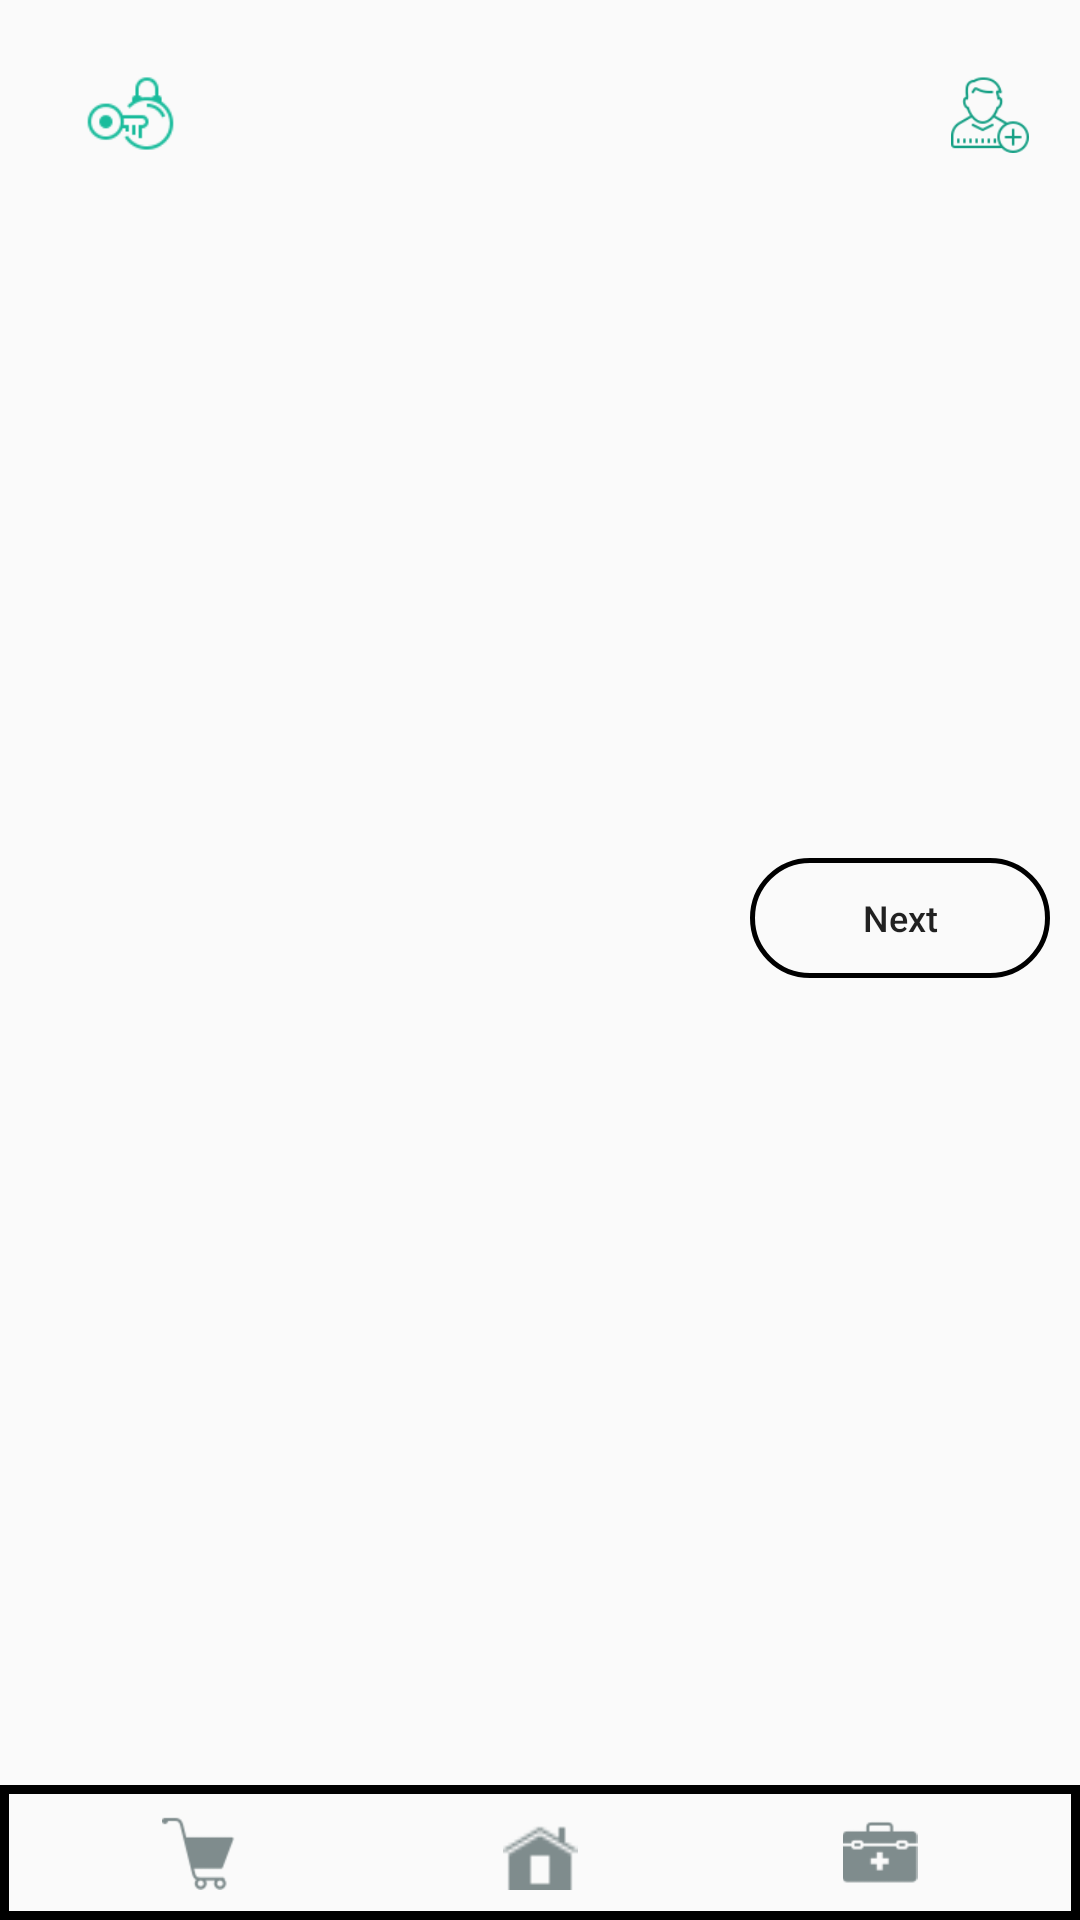

Where to tap for icons on this 1080px×1920px app screen, as [x,y]:
cart: [198,1854]
homepage: [540,1858]
loginkey: [130,113]
signupkey: [990,115]
